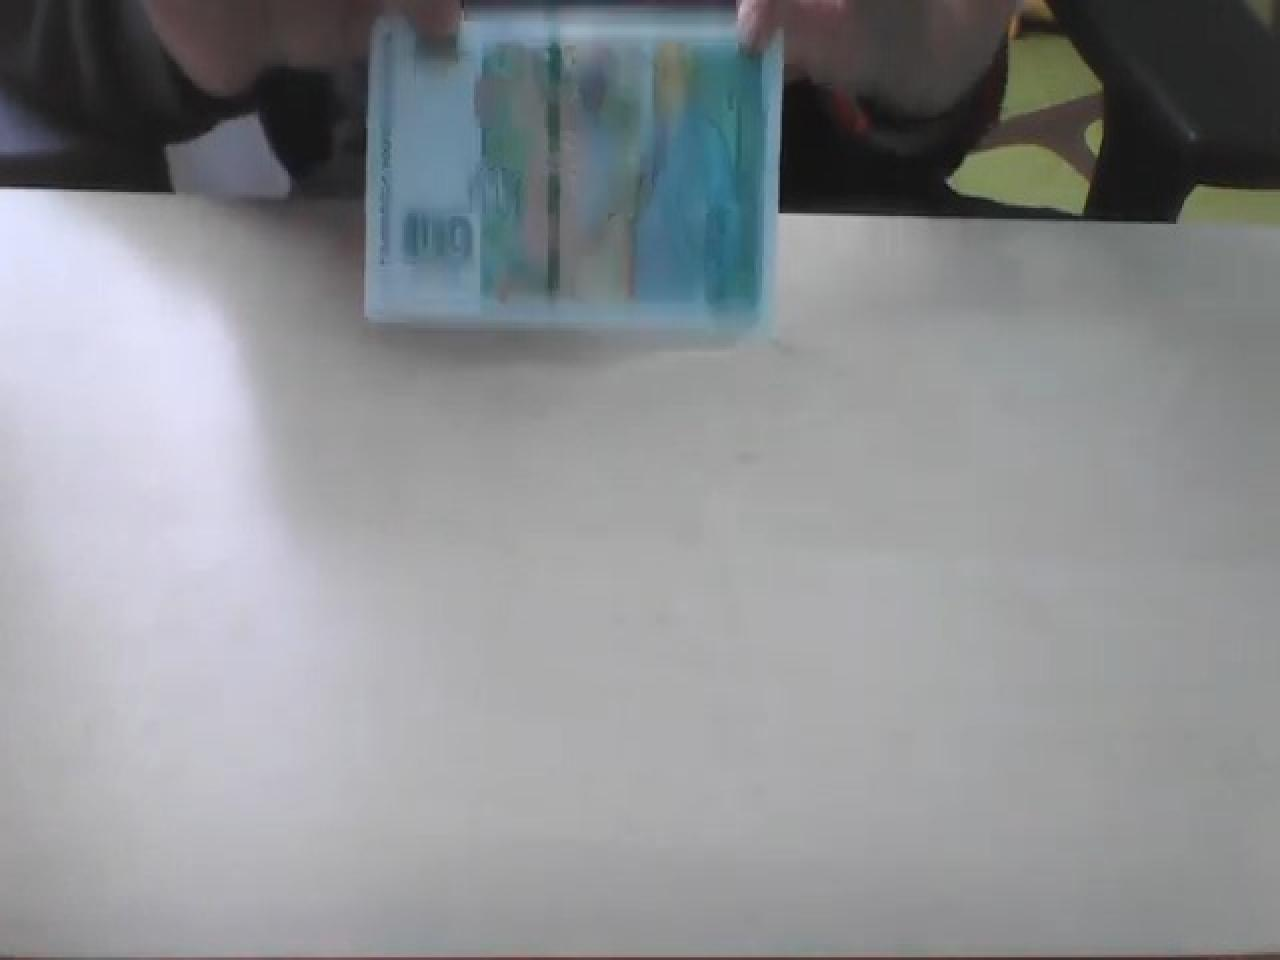100leva: (362, 5, 784, 339)
